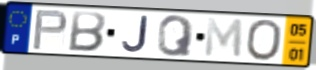B: (66, 10, 108, 54)
J: (120, 15, 150, 55)
M: (203, 16, 244, 60)
O: (244, 18, 284, 63)
P: (31, 9, 70, 52)
Q: (156, 14, 196, 58)
